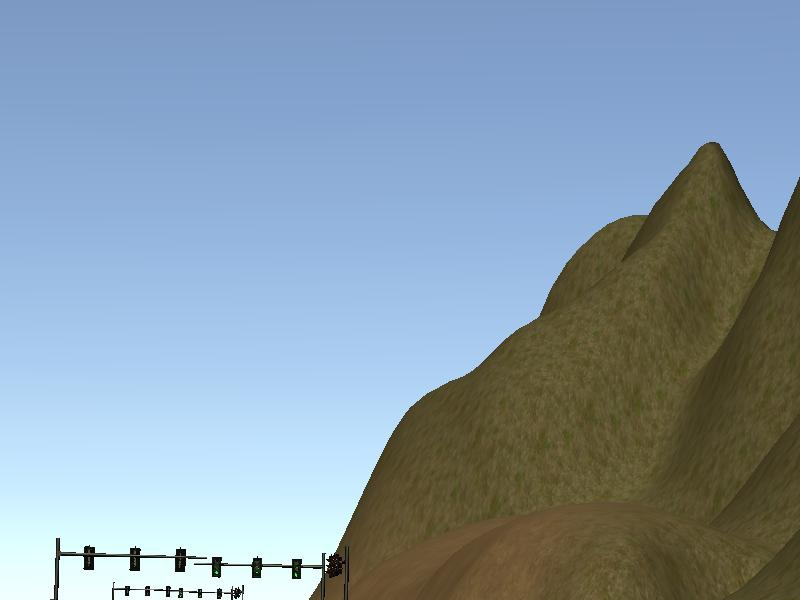Green: (252, 557, 262, 579), (212, 557, 222, 577), (292, 559, 302, 578), (179, 587, 183, 597)
